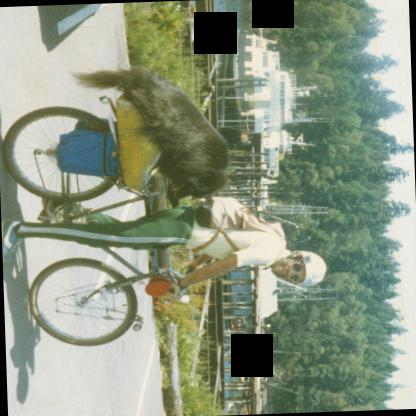backpack: (192, 195, 269, 254)
handbag: (58, 132, 119, 176)
